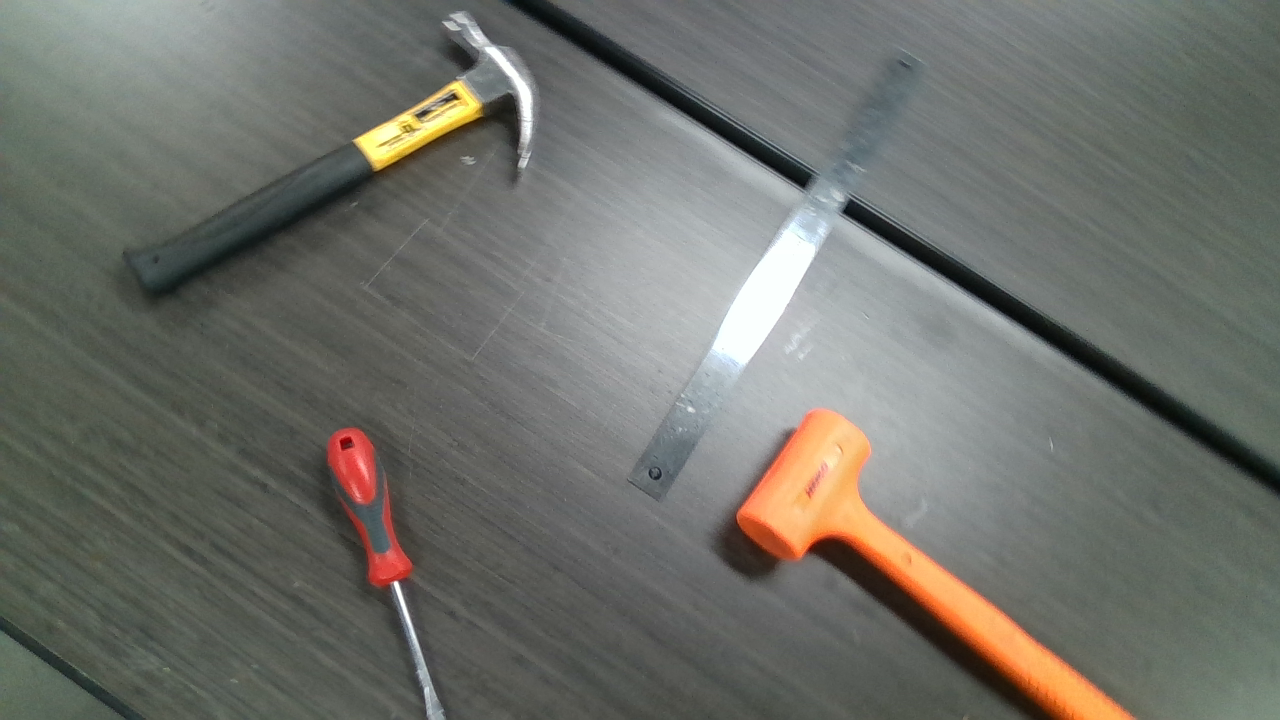Orange Hammer: (738, 408, 1156, 715)
